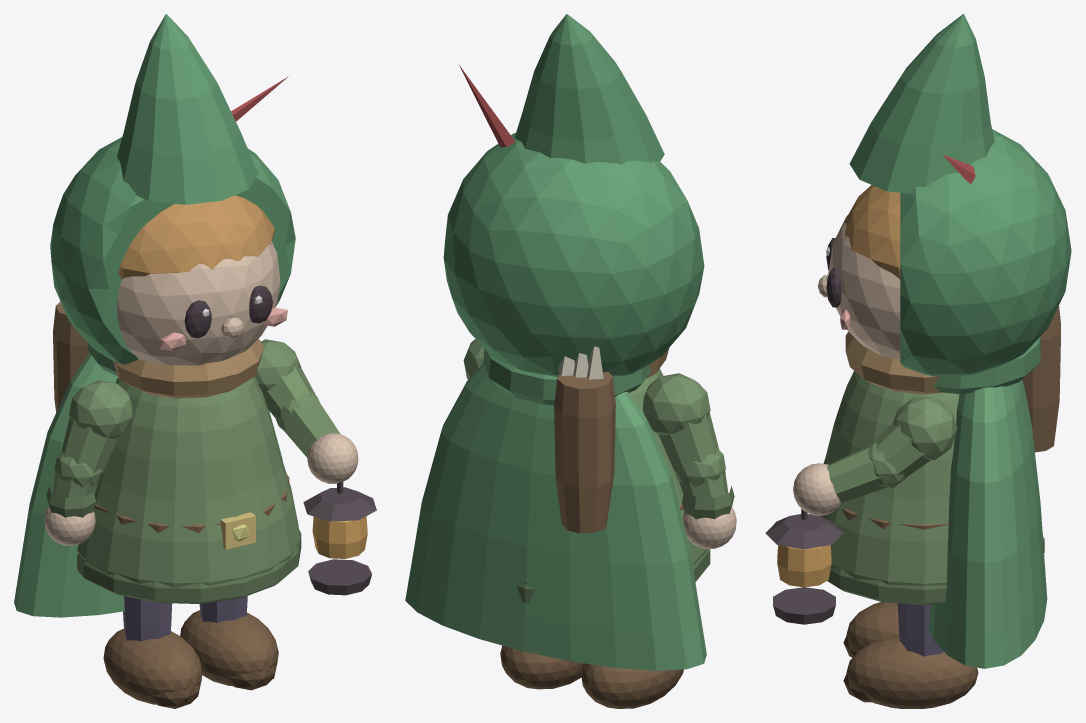
Rendered from hero_wren.glb.
The picture shows the model from 3 angles, left to right: view 1: azimuth 30°, elevation 25°; view 2: azimuth 150°, elevation 25°; view 3: azimuth 270°, elevation 25°; orthographic projection. The views are drawn at different scales.
Parts seen in each view (by area): view 1: hero_wren; view 2: hero_wren; view 3: hero_wren.
Boxes of the visible parts, bbox=[...] form: hero_wren: bbox=[14, 14, 376, 708]; hero_wren: bbox=[405, 14, 736, 708]; hero_wren: bbox=[765, 14, 1071, 708].
Size of the model in its own units: 1.1 by 2.45 by 1.02.
